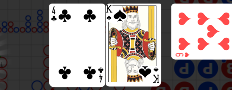4C: (97, 66, 105, 84)
9H: (175, 52, 191, 59)
